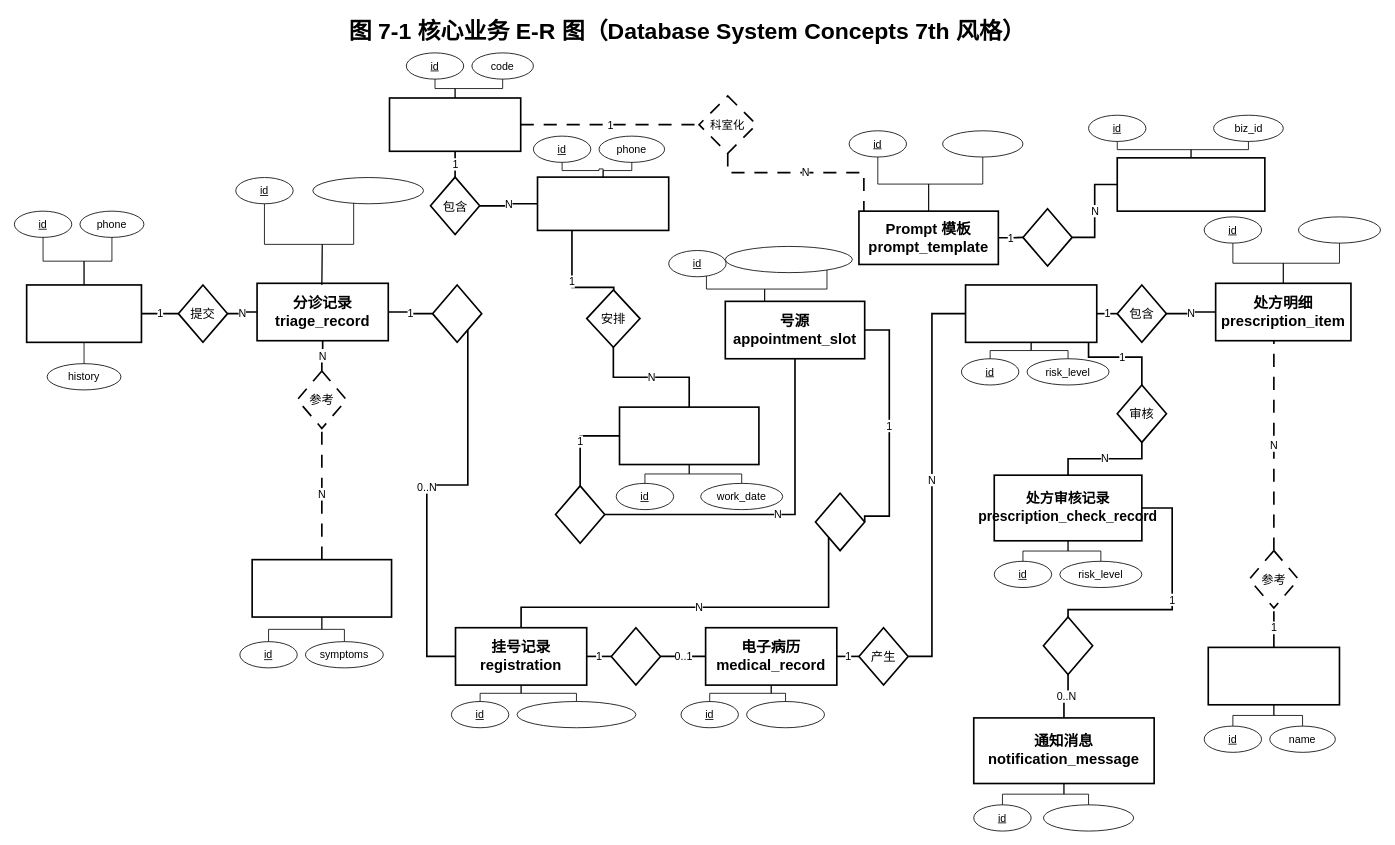
This 1395x845 diagram has some shape labels left out. The centre of each missing label's shape, as x and y in pixels:
"AI 调用日志 ai_generation_log" goes at point (1190, 184).
"appointment_time" goes at point (576, 714).
"chief_complaint" goes at point (368, 190).
"diagnosis" goes at point (785, 714).
"drug_name" goes at point (1339, 229).
"read_status" goes at point (1088, 817).
"remaining_capacity" goes at point (788, 259).
"task_type" goes at point (982, 143).
"使用" goes at point (1047, 236).
"医生 doctor" goes at point (602, 203).
"医生排班 doctor_schedule" goes at point (688, 435).
"占用" goes at point (839, 521).
"处方 prescription" goes at point (1030, 313).
"导向" goes at point (456, 313).
"开放" goes at point (579, 514).
"患者 patient" goes at point (83, 313).
"生成" goes at point (635, 656).
"知识库条目 knowledge_entry" goes at point (321, 587).
"科室 department" goes at point (454, 124).
"药品 drug" goes at point (1273, 675).
"触发" goes at point (1067, 645).
